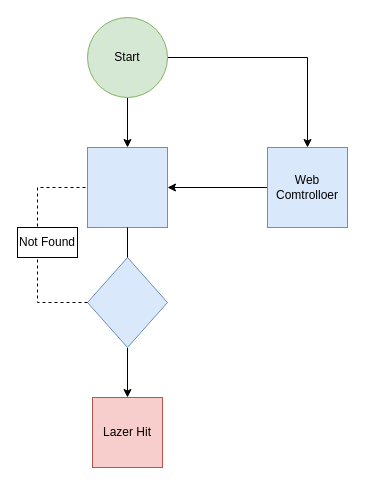
This 365x485 diagram has some shape labels left out. Each missing label, with the box of its shape:
Patrol: (86, 146, 168, 228)
Target Found: (86, 256, 168, 348)
